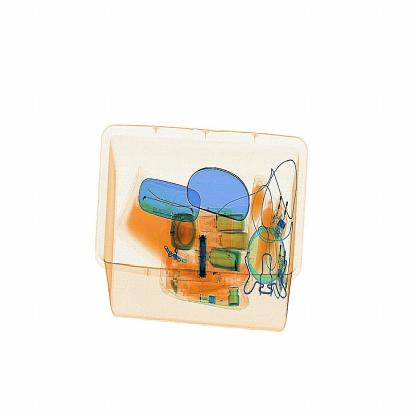scissors: (195, 229, 217, 282)
